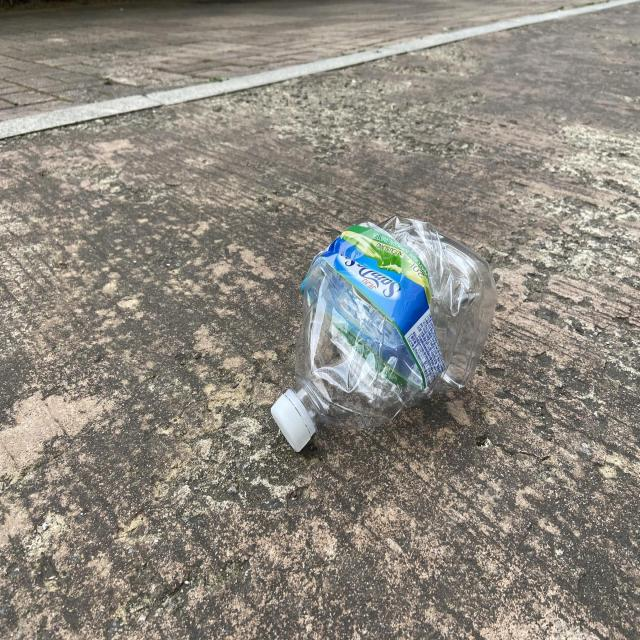plastic: (271, 216, 498, 451)
